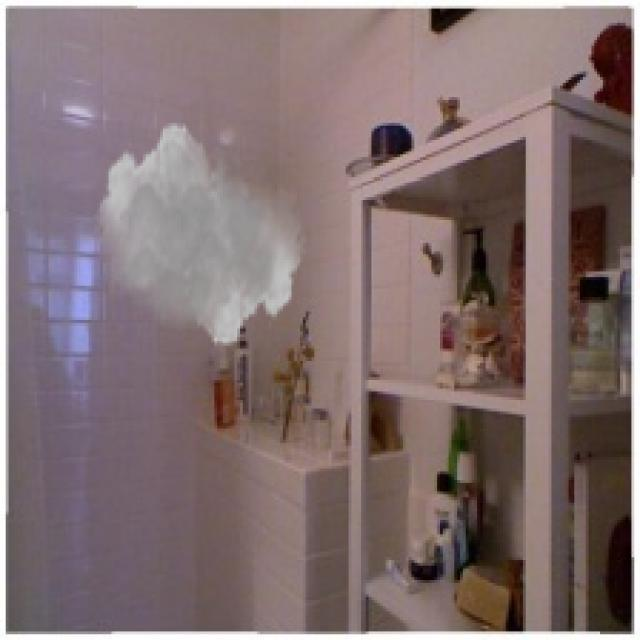Smoke: (94, 120, 306, 349)
